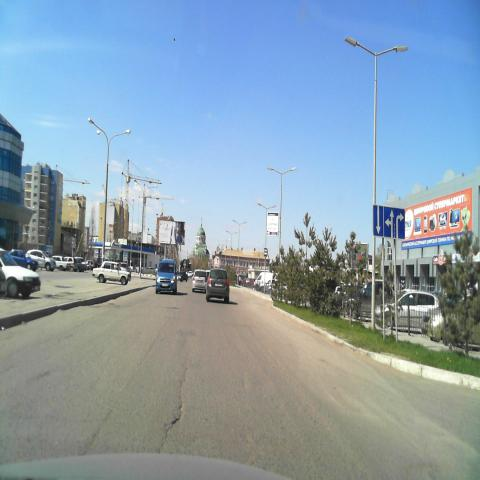5_15_7: (372, 204, 405, 240)
